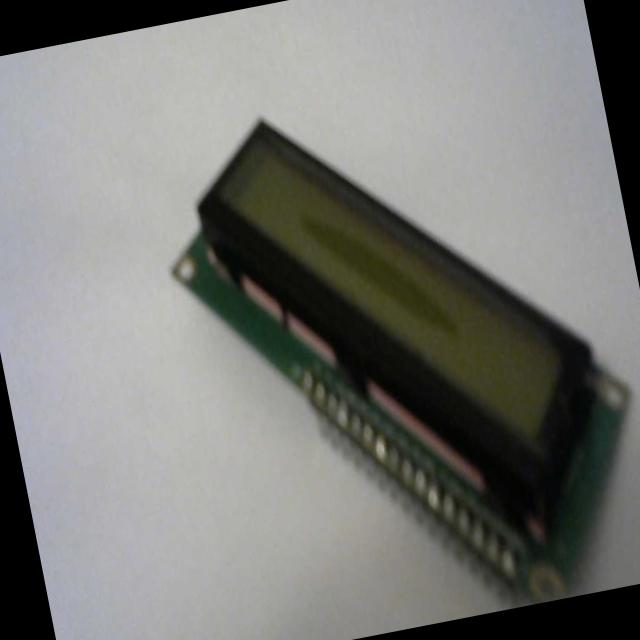lcd: (136, 35, 640, 640)
